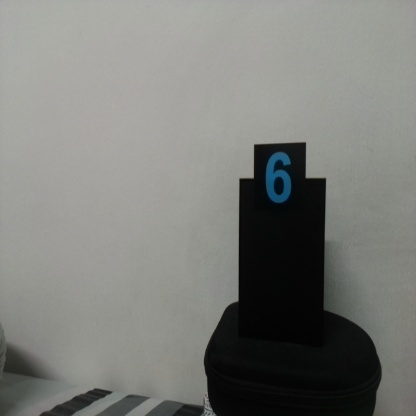id_6: (254, 144, 307, 221)
